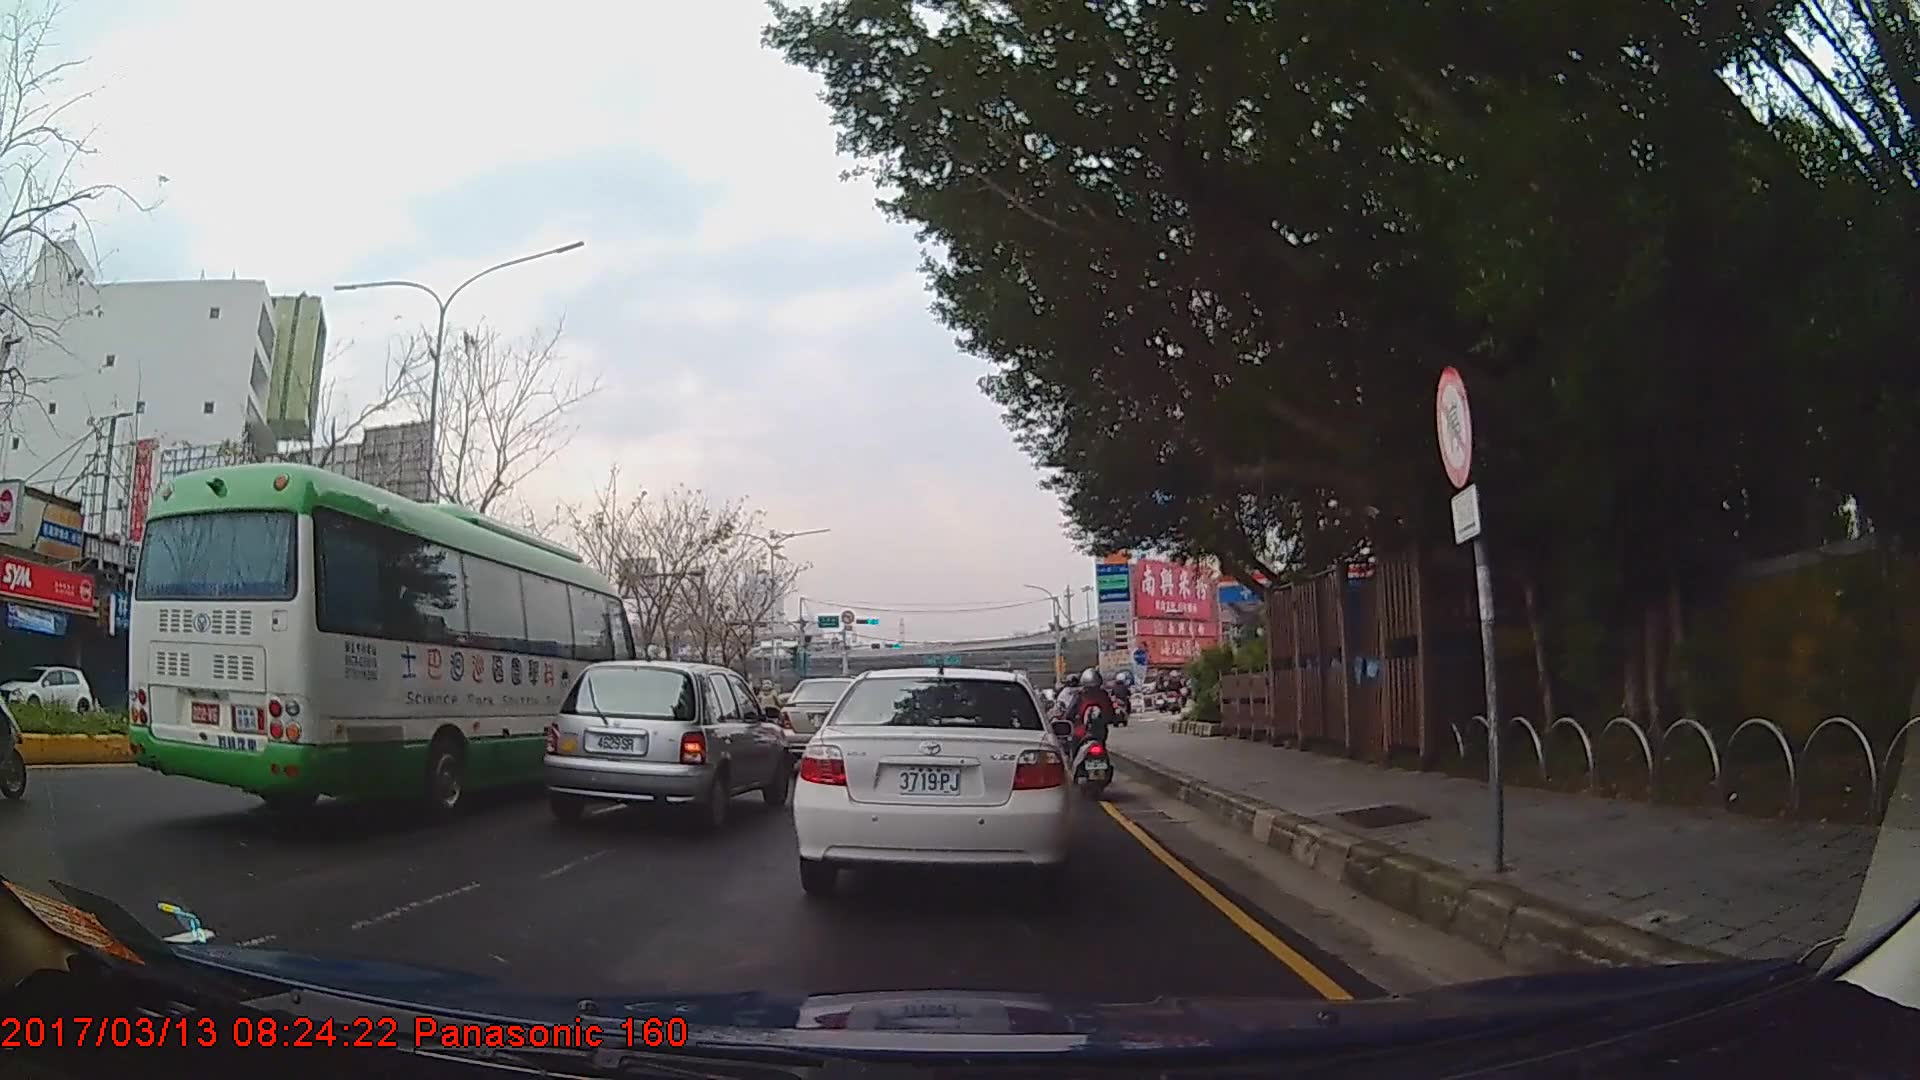rider: (1068, 667, 1113, 804), (1, 594, 26, 800), (1058, 675, 1089, 764), (1109, 672, 1132, 729), (1166, 671, 1186, 717)
vehicle: (126, 465, 638, 826), (790, 666, 1075, 896), (543, 655, 788, 833), (775, 675, 873, 766), (0, 660, 94, 718)
